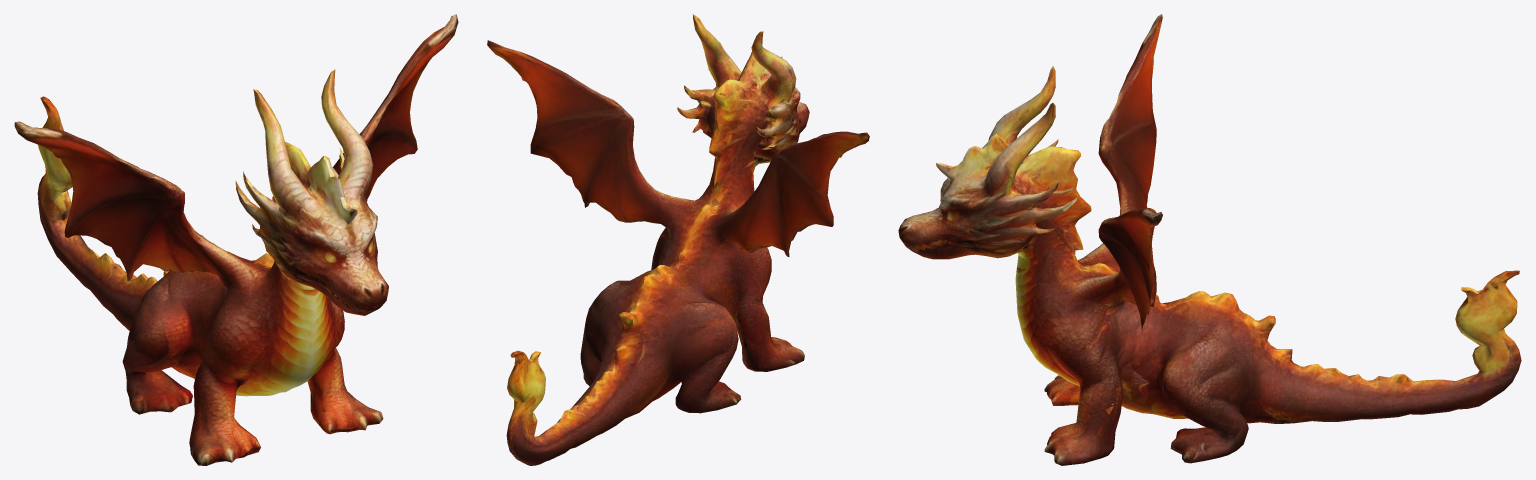
File: dragon_fire_small_lod0.glb
The picture shows the model from 3 angles, left to right: view 1: azimuth 30°, elevation 25°; view 2: azimuth 150°, elevation 25°; view 3: azimuth 270°, elevation 25°; orthographic projection. The views are drawn at different scales.
Visible parts, largest first — view 1: dragon_fire_small_lod0; view 2: dragon_fire_small_lod0; view 3: dragon_fire_small_lod0.
Part boxes in pixels (bbox=[...]): dragon_fire_small_lod0: bbox=[14, 14, 458, 465]; dragon_fire_small_lod0: bbox=[487, 14, 869, 465]; dragon_fire_small_lod0: bbox=[898, 14, 1521, 465].
Size of the model in its own units: 1.14 by 0.9086 by 1.5.
Materials: 1 (1 with a texture image).
